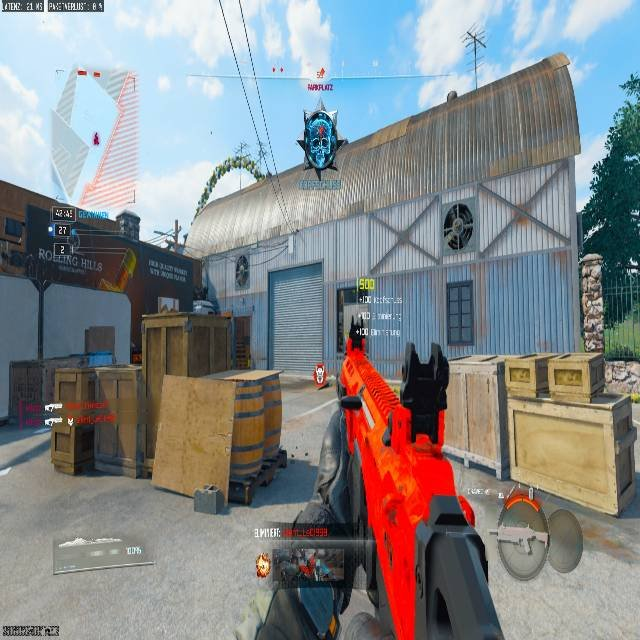player: (299, 105, 340, 173)
